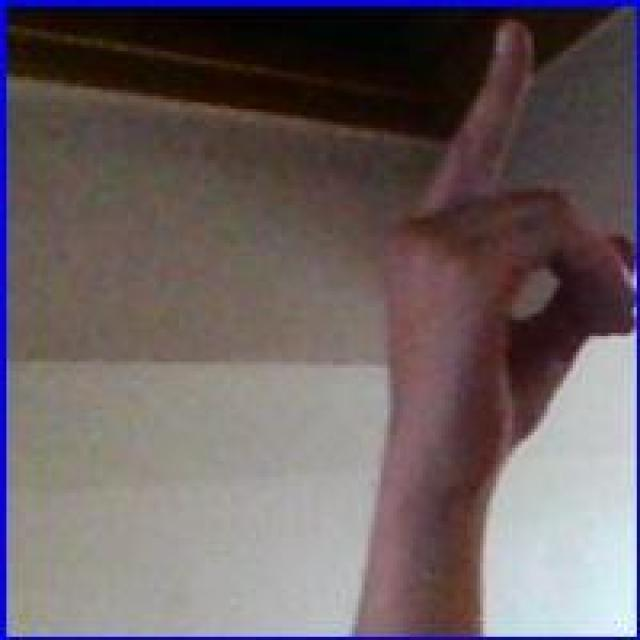D: (373, 10, 635, 563)
